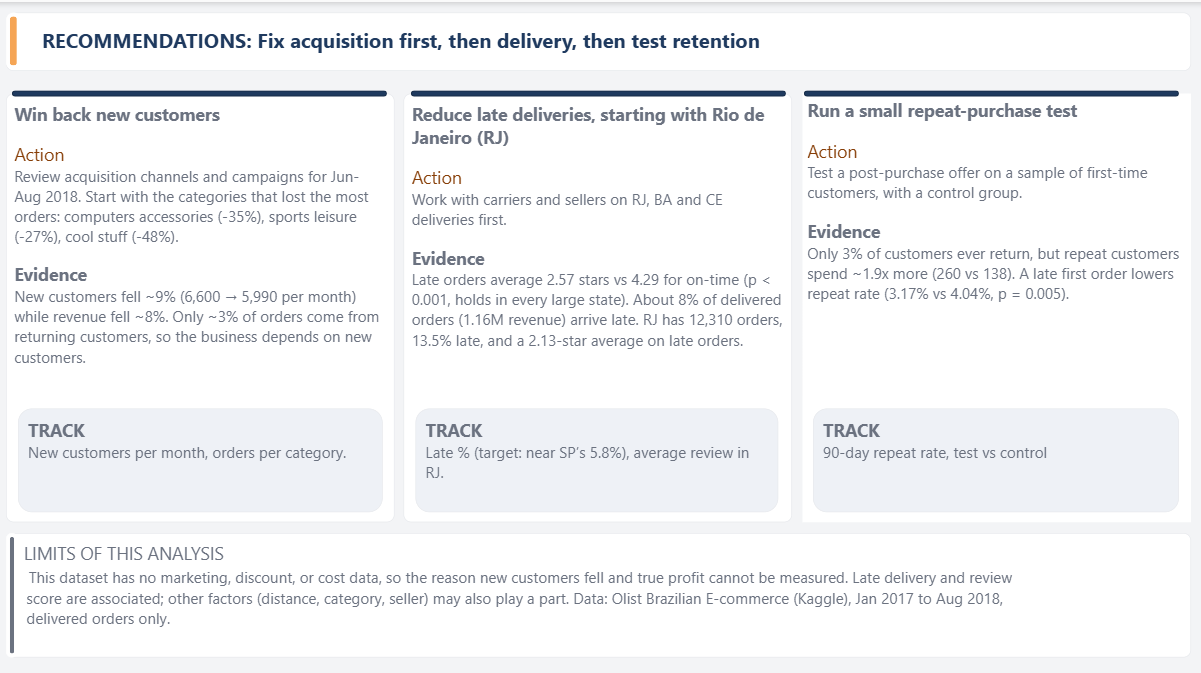

The page's visual inventory and layout, read from the dashboard file:
{"tool":"powerbi","page":{"name":"Recommendations ","canvas":[1280,720],"ordinal":3},"visuals":[{"type":"textbox","box":[9.5,11.1,1256.6,62],"z":0},{"type":"textbox","box":[9.5,97,412,454.9],"z":1000},{"type":"textbox","box":[431.1,97,412,454.9],"z":2000},{"type":"textbox","box":[854.2,97,412,454.9],"z":3000},{"type":"textbox","box":[9.5,563.1,1256.6,132],"z":4000},{"type":"shape","box":[9.5,11.1,15.9,60.4],"z":5000},{"type":"shape","box":[9.5,563.1,12.7,132],"z":6000},{"type":"textbox","box":[22.3,431.1,386.5,109.8],"z":7000},{"type":"textbox","box":[443.8,431.1,384.9,109.8],"z":8000},{"type":"textbox","box":[865.3,431.1,388.1,109.8],"z":9000},{"type":"shape","box":[439,93.8,397.7,6.4],"z":10000},{"type":"shape","box":[855.7,93.8,397.7,6.4],"z":11000},{"type":"shape","box":[15.9,93.8,397.7,6.4],"z":12000}]}

Visuals, with their boxes in screenshot pixels (x1, y1, x2, y2), scaled from the page's 1280x720 canvas onto the 1201x673 screenshot:
textbox: BBox(9, 10, 1188, 68)
textbox: BBox(9, 91, 395, 516)
textbox: BBox(404, 91, 791, 516)
textbox: BBox(801, 91, 1188, 516)
textbox: BBox(9, 526, 1188, 650)
shape: BBox(9, 10, 24, 67)
shape: BBox(9, 526, 21, 650)
textbox: BBox(21, 403, 384, 506)
textbox: BBox(416, 403, 778, 506)
textbox: BBox(812, 403, 1176, 506)
shape: BBox(412, 88, 785, 94)
shape: BBox(803, 88, 1176, 94)
shape: BBox(15, 88, 388, 94)
